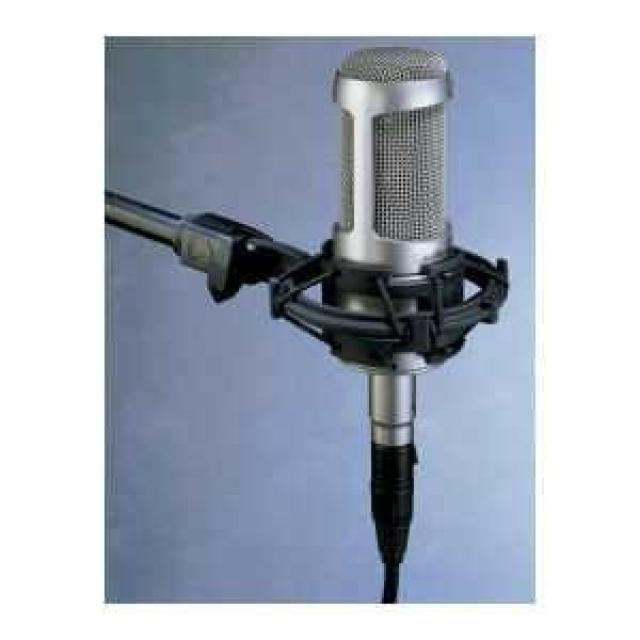microphone: (323, 45, 471, 496)
